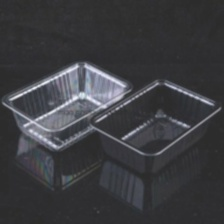plastic_box: (84, 73, 223, 181), (0, 54, 139, 157)
